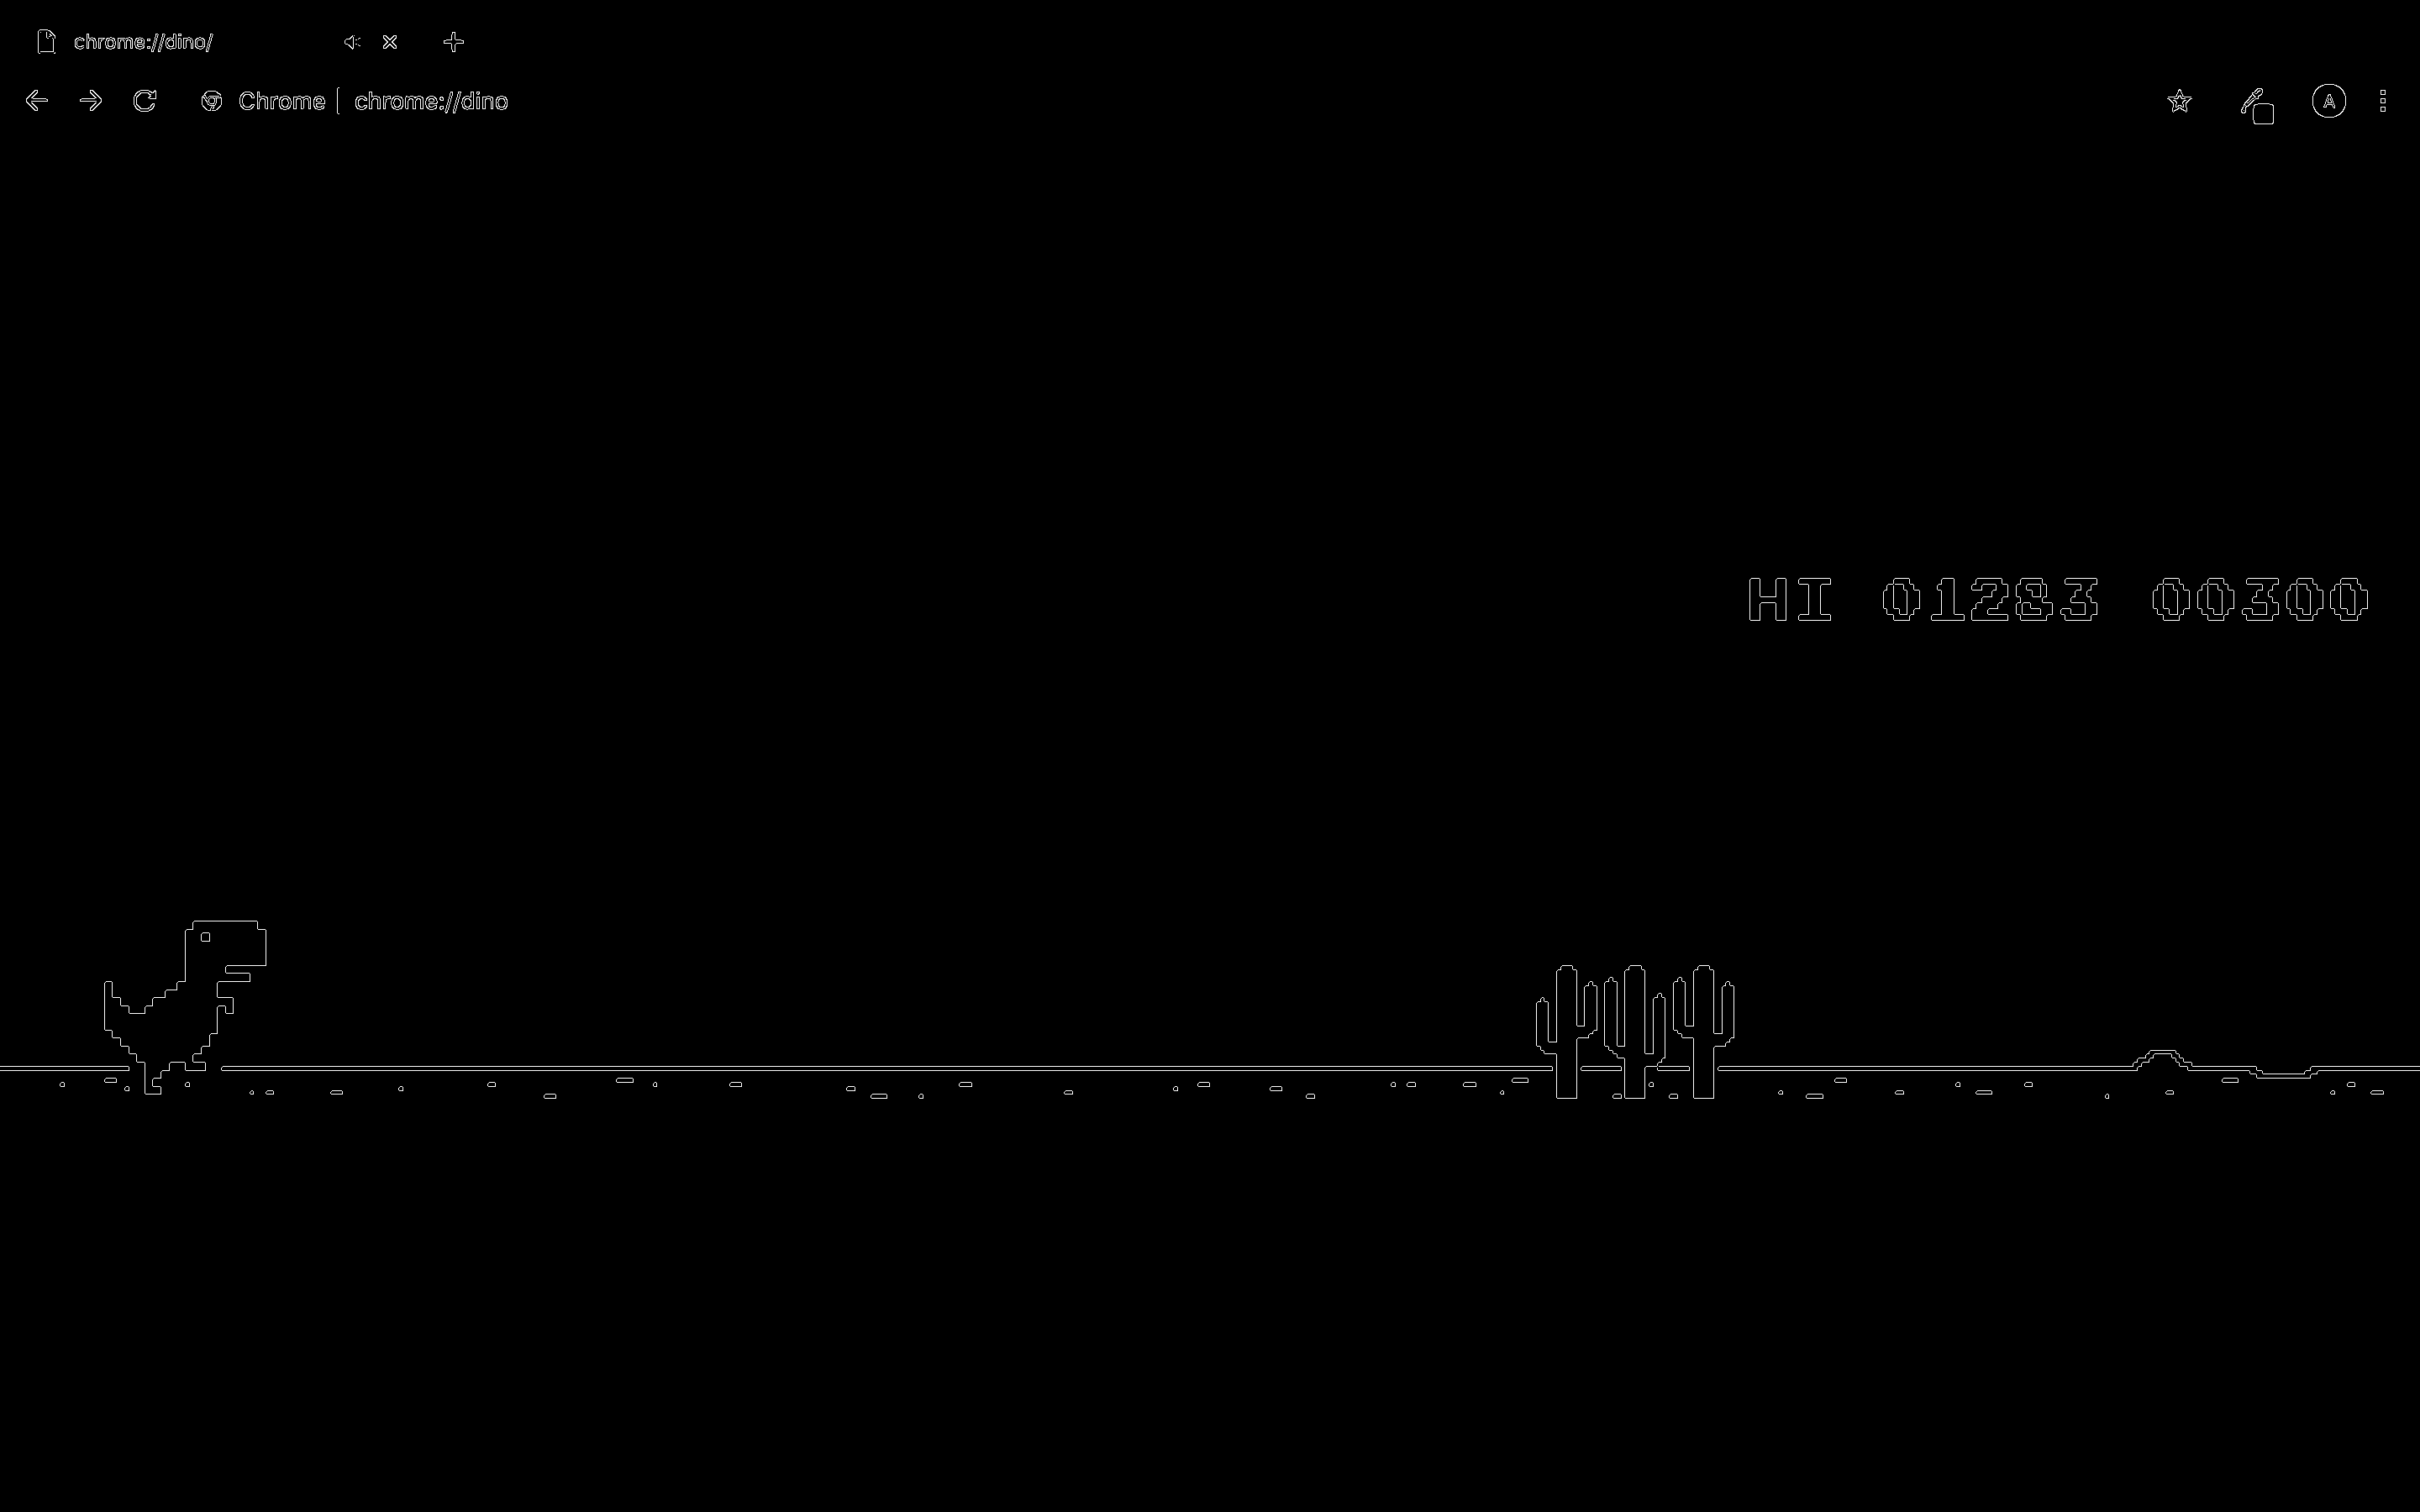Cactus: (1524, 969, 1599, 1101), (1601, 969, 1669, 1103), (1676, 972, 1744, 1104)
Dino: (101, 921, 268, 1089)
